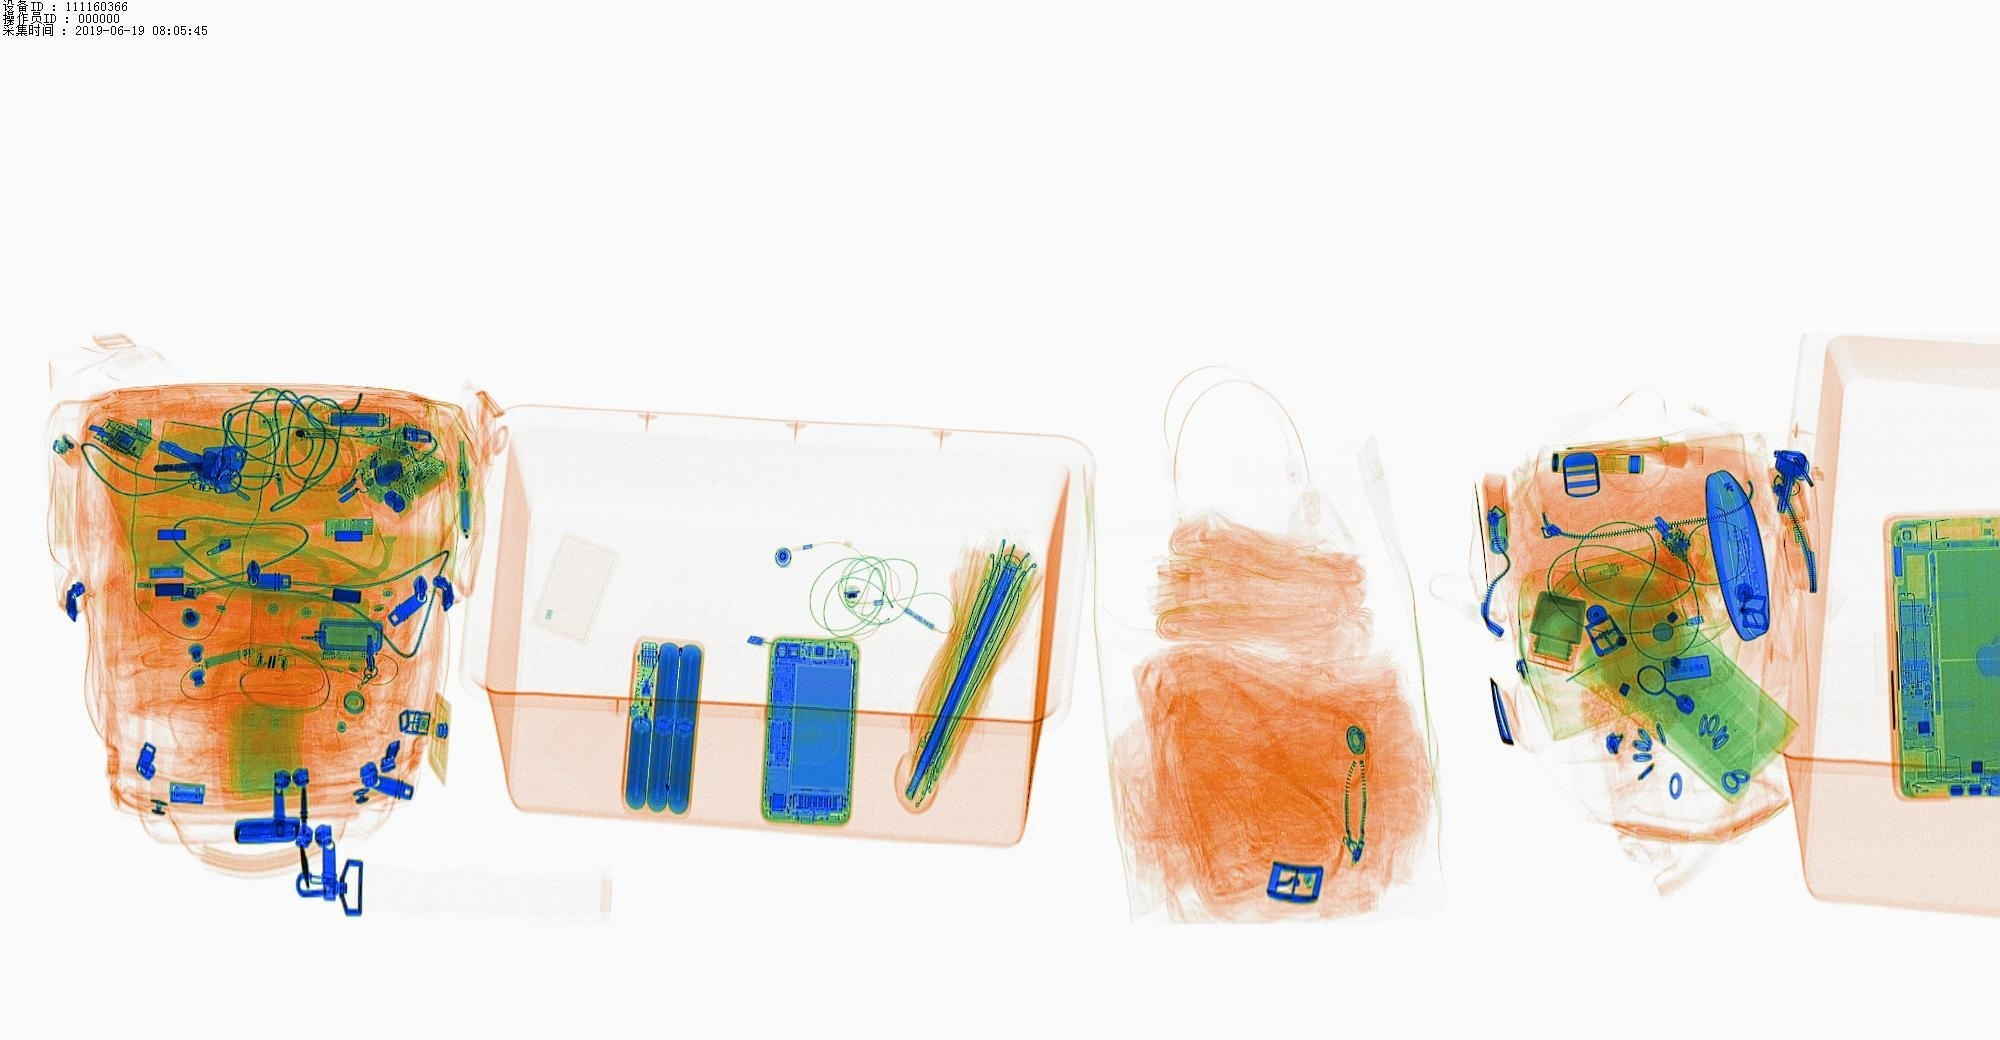NonmetallicFire: (36, 419, 110, 482)
